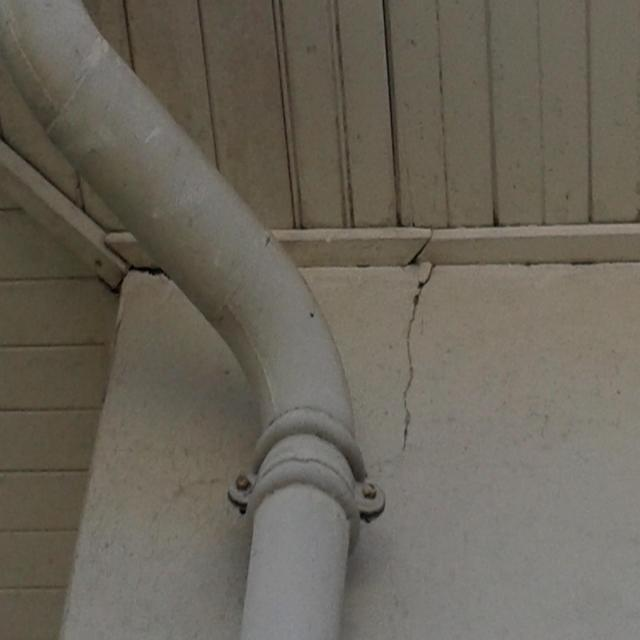crack: (392, 264, 436, 457), (401, 225, 435, 267)
